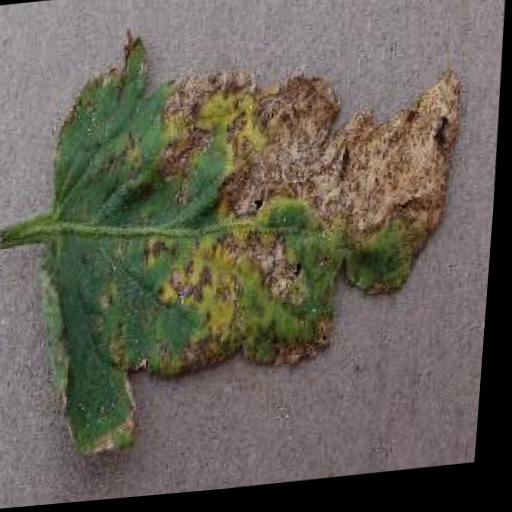Bacterial Spot: (25, 0, 485, 476)
